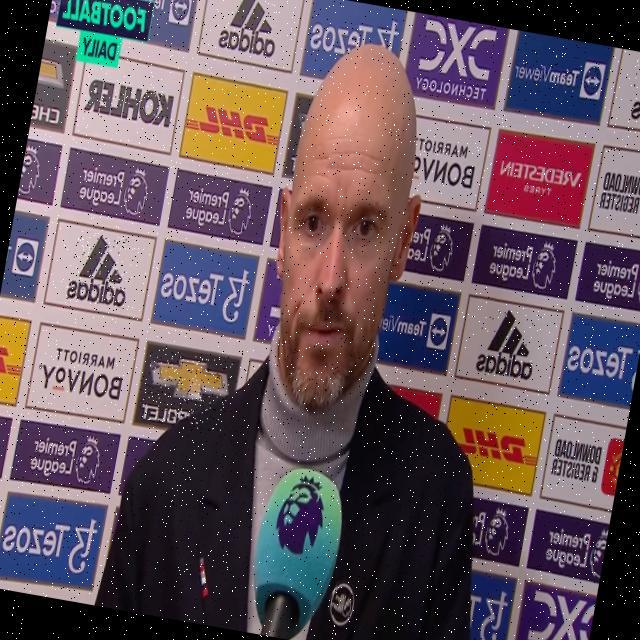Adidas: (64, 230, 136, 309), (473, 305, 543, 383), (216, 0, 285, 61), (626, 51, 640, 130)
Chevrolet: (137, 347, 234, 435)
Kohler: (81, 74, 176, 129)
TeamViewer: (511, 46, 605, 98), (95, 0, 192, 24)
